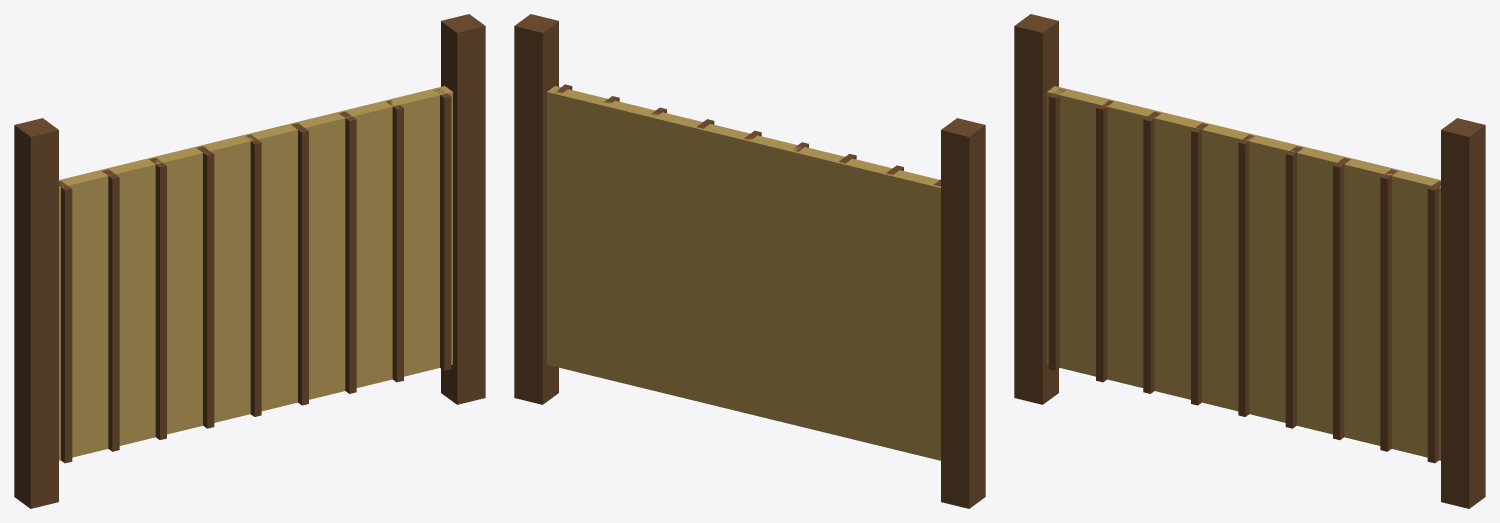
File: hanok_saripmun.glb
3 views of the same model, side by side, from view 1: azimuth 30°, elevation 25°; view 2: azimuth 150°, elevation 25°; view 3: azimuth 330°, elevation 25° (orthographic).
Parts seen in each view (by area): view 1: hanok_saripmun; view 2: hanok_saripmun; view 3: hanok_saripmun.
Boxes of the visible parts, x1,y1,x2,y2 form: hanok_saripmun: [14, 14, 485, 508]; hanok_saripmun: [514, 14, 985, 508]; hanok_saripmun: [1014, 14, 1485, 508].
Size of the model in its own units: 1.92 by 1.5 by 0.12.
